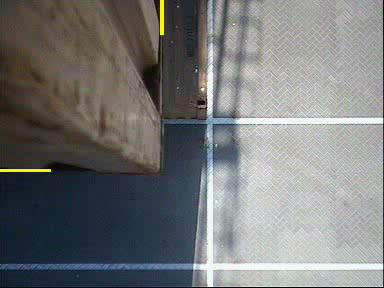groundmarker_2: (198, 47, 234, 101), (199, 218, 235, 271)
